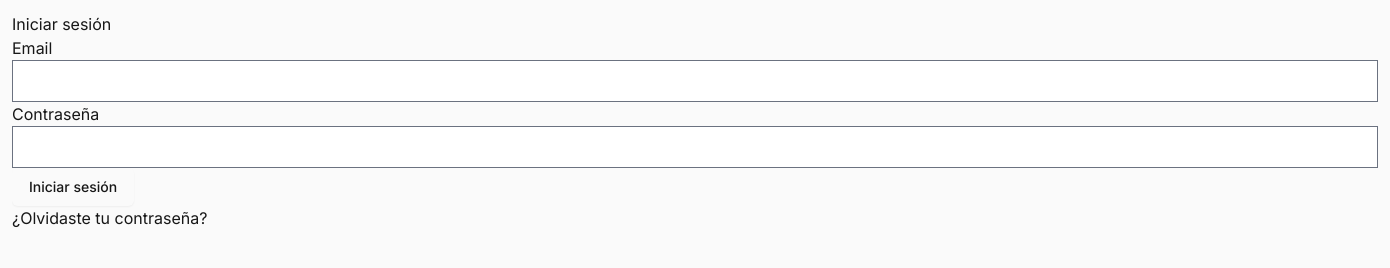
Test: LoginPage › shows inactive account message
The image size is (1390, 268).
Type "inactive@example.com" into the field labelled "Email" at (695, 81), box [12,60,1378,102]
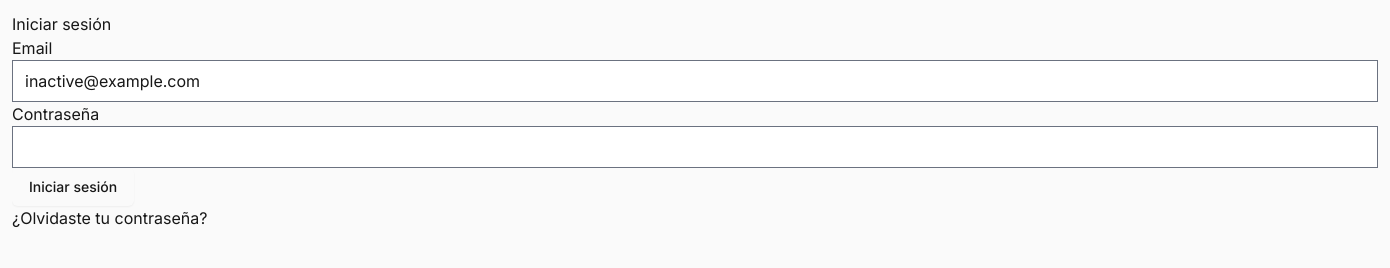
Type "password123" into the password field labelled "Contraseña" at (695, 147), box [12,126,1378,168]
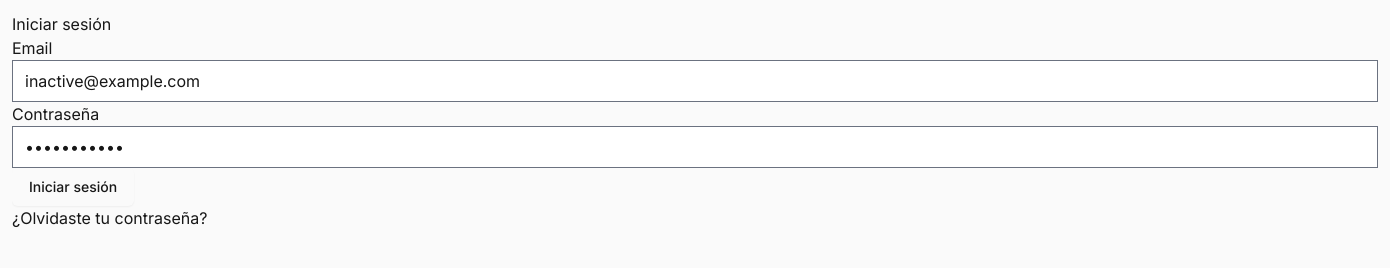
Click the button "Iniciar sesión" at (73, 187), box [12,168,134,206]
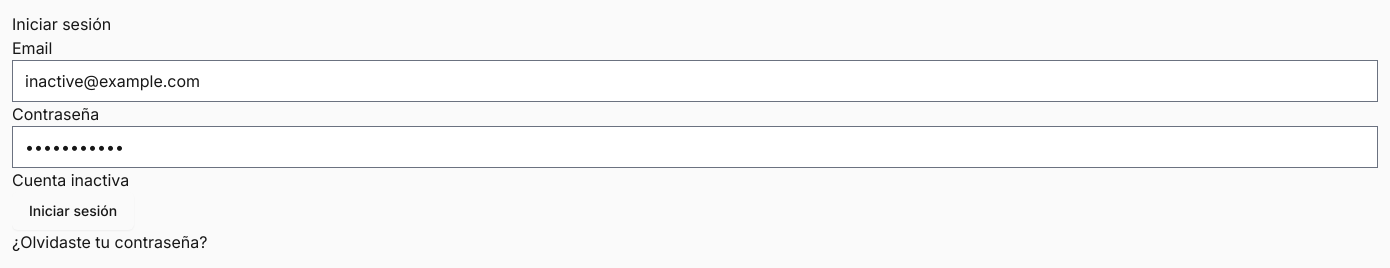
Now the text "Cuenta inactiva" is shown, box [12,170,129,190]
